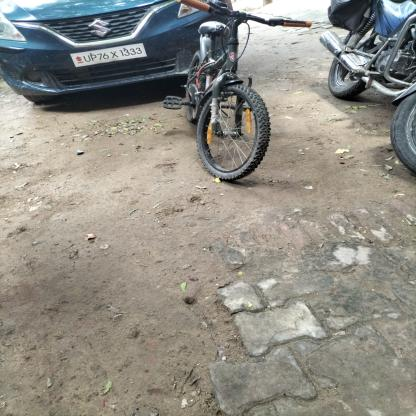bike: (127, 0, 345, 210)
